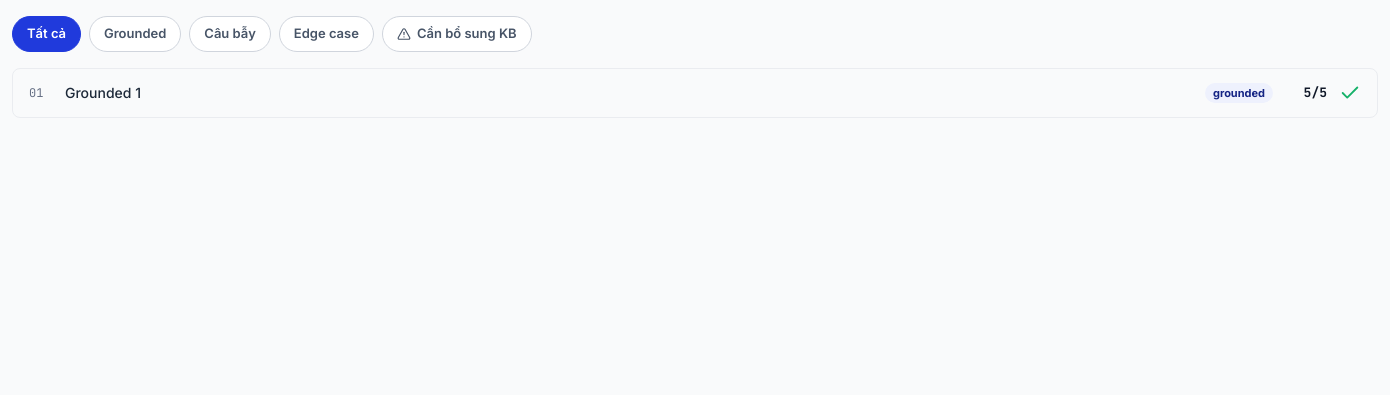
Test: EvalTestList — sửa câu trả lời › huỷ thì bỏ bản nháp và không gọi server
Click the button "01 Grounded 1 grounded 5/5" at {"x": 103, "y": 92}, box [13,69,1377,117]
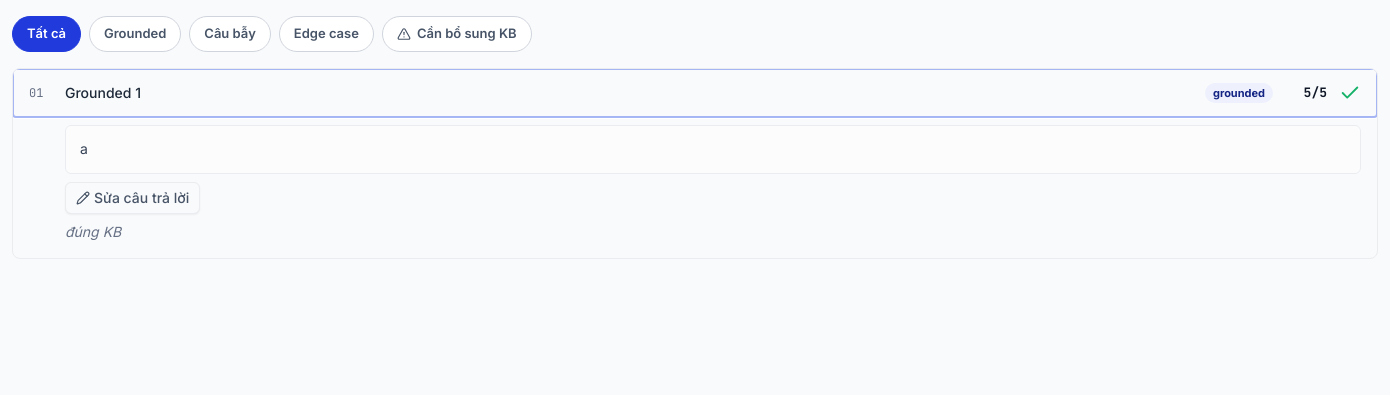
Click the button "Sửa câu trả lời" at {"x": 133, "y": 198}, box [65,182,200,214]
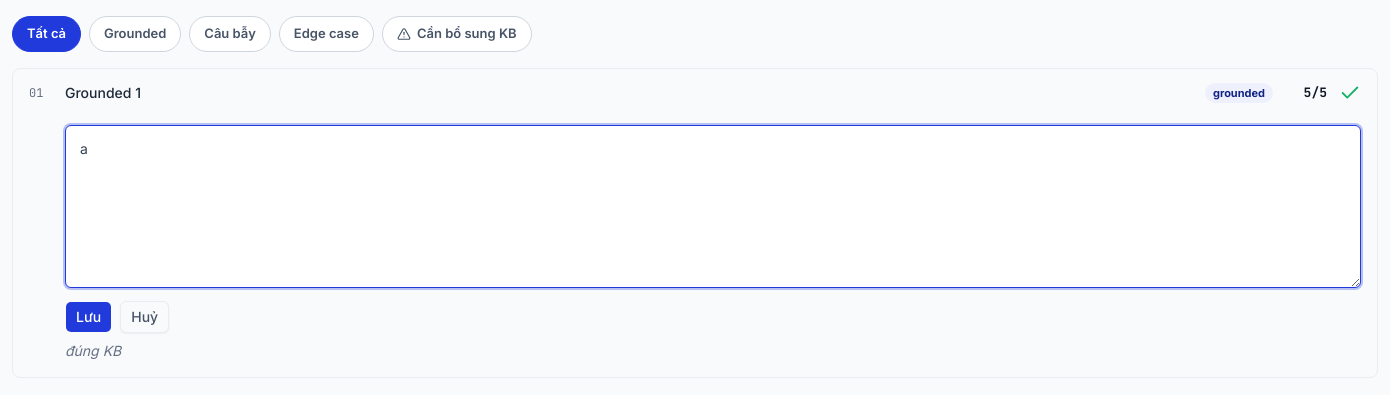
Type "gõ dở" into the text box at {"x": 713, "y": 206}, box [65,125,1361,288]
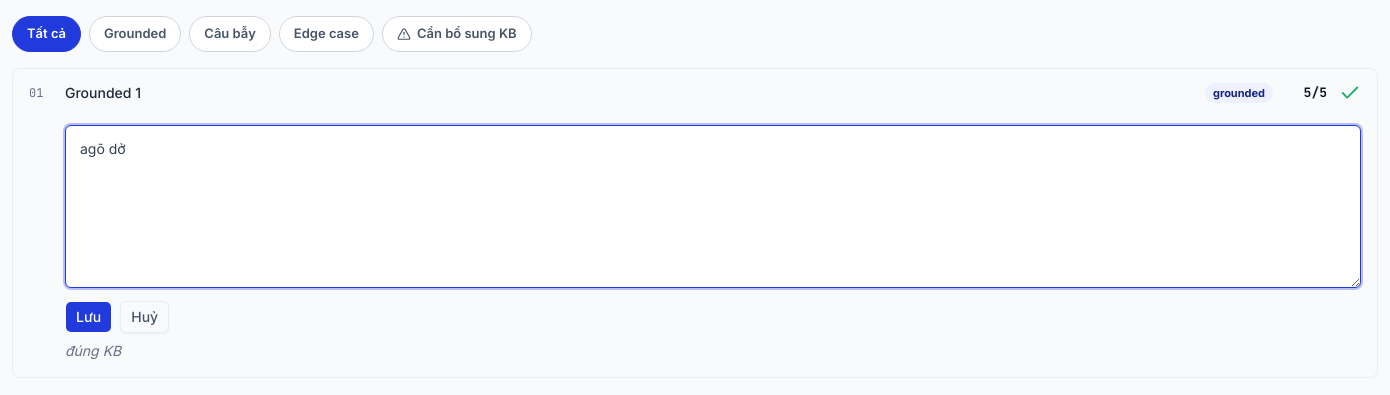
Click the button "Huỷ" at {"x": 145, "y": 316}, box [120,300,169,332]
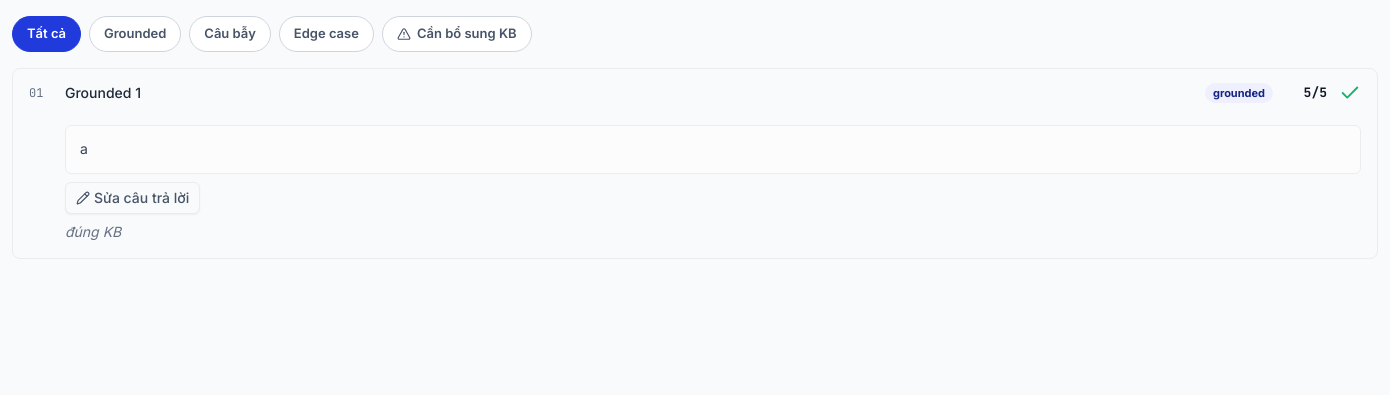
expect the text "a" is shown: met, box [65,125,1361,174]
